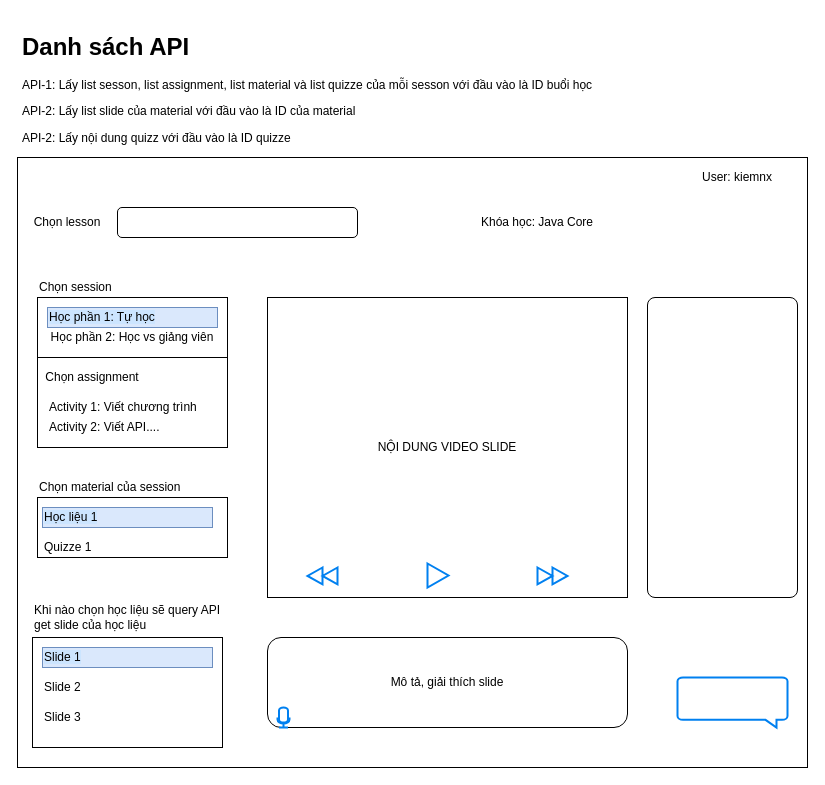
The diagram is 825 pixels wide and 785 high, and some of its shapes have lost their labels. Each missing label, with the centre of its shape:
"Buổi 1: Định hướng" goes at point (237, 222).
"Ghi chú" goes at point (722, 447).
"Đăng ký giảng viên hướng dẫn" goes at point (732, 702).
